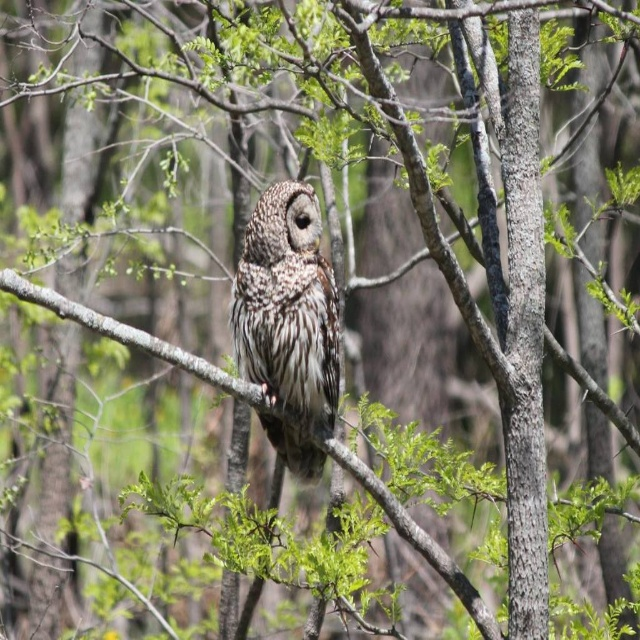Owl: (231, 179, 343, 487)
